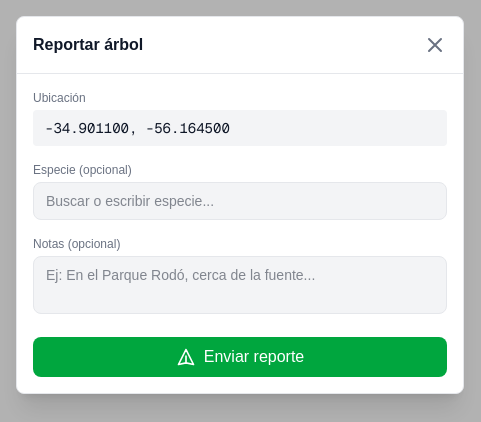
Test case: ReportModal › shows sending state while submitting
Click the button "Enviar reporte": (240, 357) [33,337,447,377]
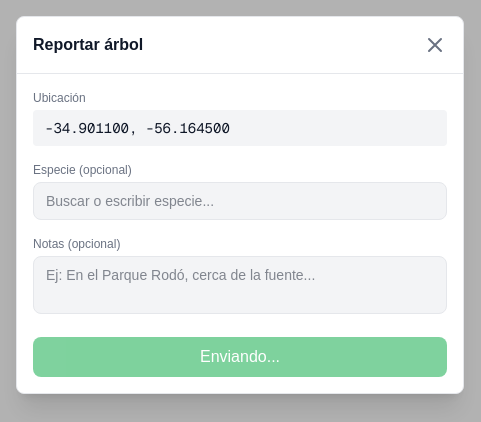
Now the button "Enviando..." is shown, box [33,337,447,377]
